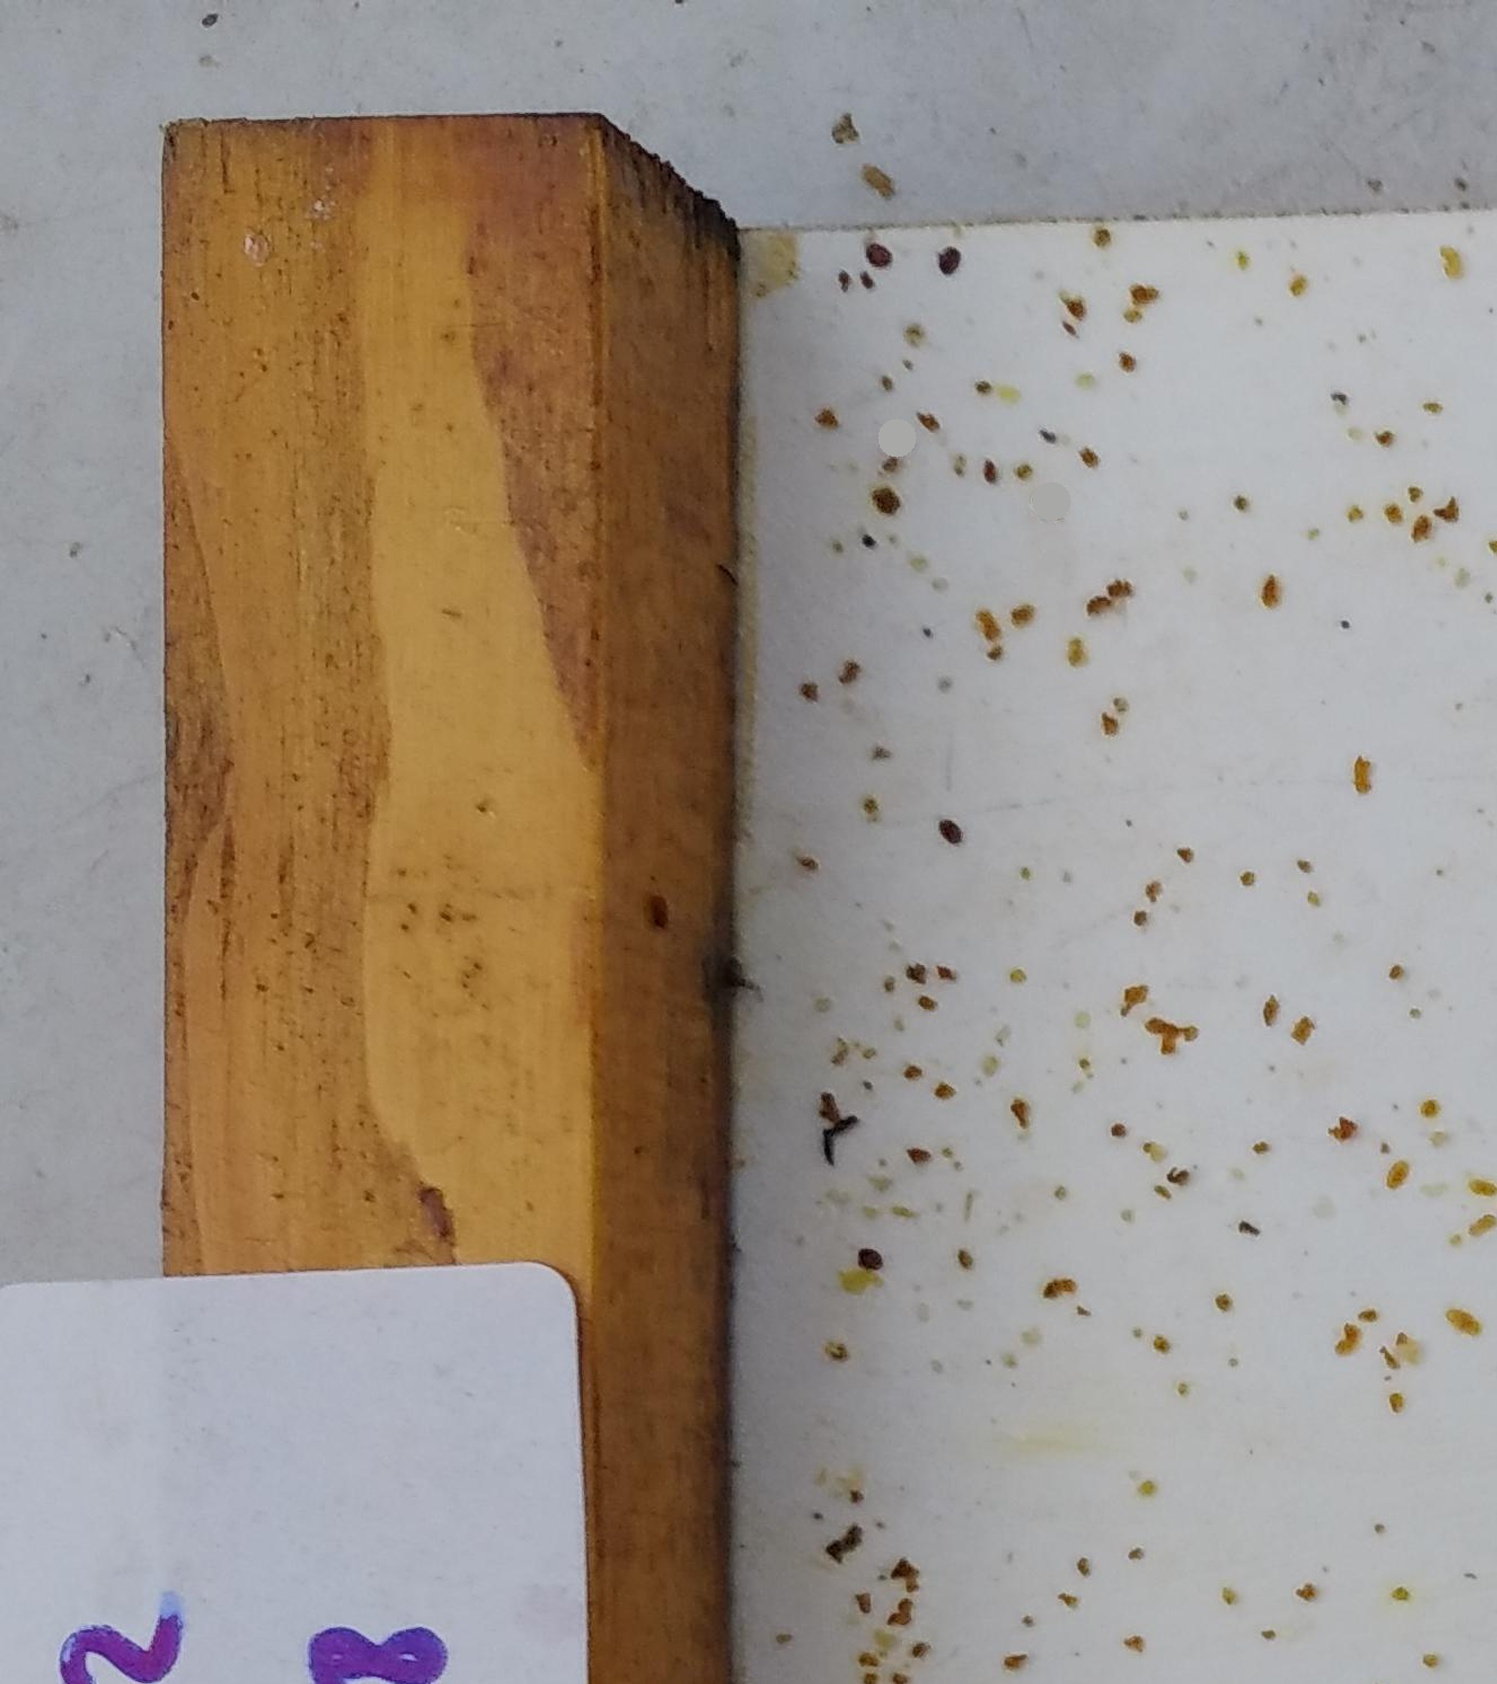Varroa: (864, 239, 892, 265), (936, 818, 959, 844), (936, 247, 959, 270), (860, 1250, 874, 1265)
